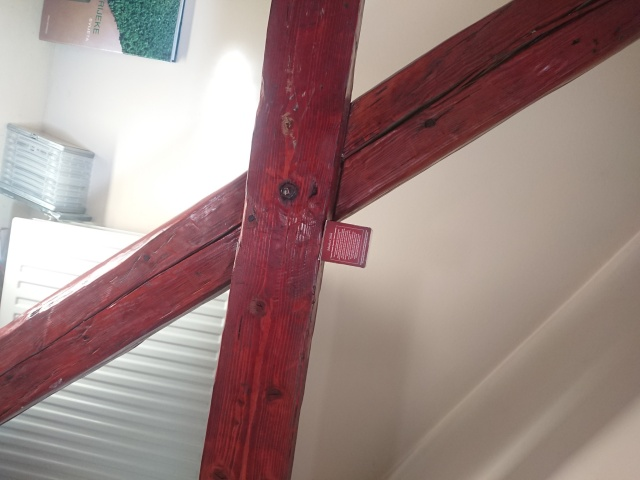Franck Apple Cinnamon Tea 60g: (315, 217, 372, 269)
